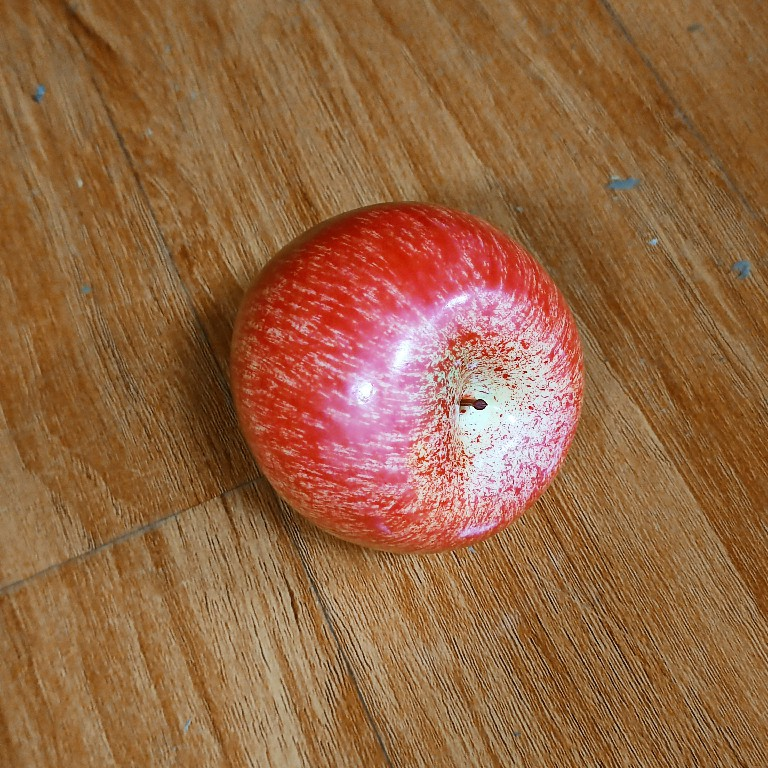fruit_apple: (223, 196, 588, 562)
